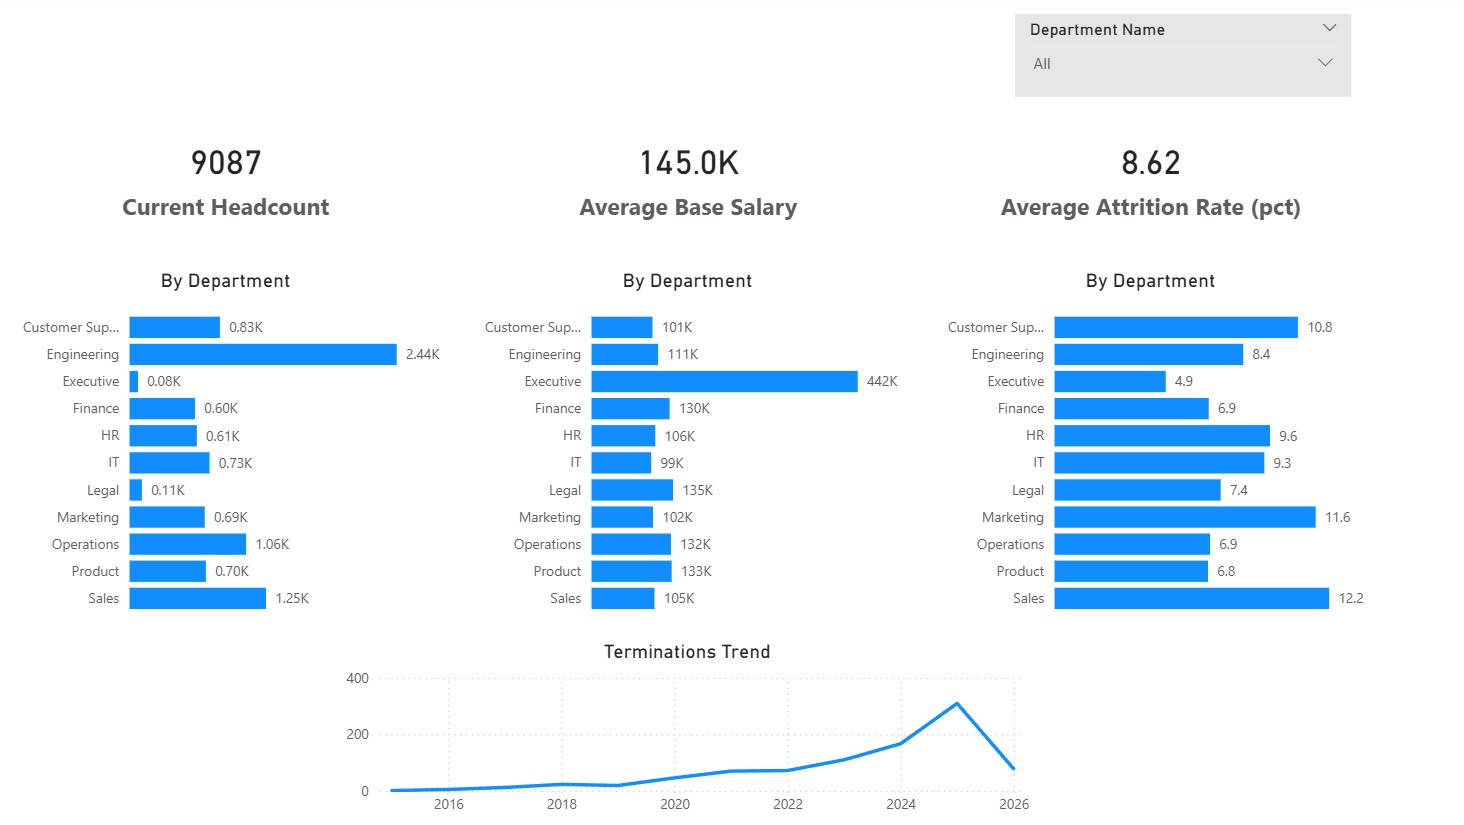

The page's visual inventory and layout, read from the dashboard file:
{"tool":"powerbi","page":{"name":"Executive","canvas":[1280,720],"ordinal":0},"visuals":[{"type":"card","fields":{"Values":["Sum(people_analytics vw_current_headcount_by_department.current_headcount)"]},"box":[59,81,281,151],"z":0},{"type":"card","fields":{"Values":["Avg(people_analytics vw_attrition_rate_by_department.attrition_rate_pct)"]},"box":[863,81,280,151],"z":1000},{"type":"card","fields":{"Values":["Avg(people_analytics vw_current_salary_by_department.avg_current_base_salary)"]},"box":[461,81,280,151],"z":2000},{"type":"barChart","title":"By Department","fields":{"Category":["people_analytics vw_current_headcount_by_department.departmentname"],"Y":["Sum(people_analytics vw_current_headcount_by_department.current_headcount)"]},"box":[7,237,385,310],"z":3000},{"type":"barChart","title":"By Department","fields":{"Category":["people_analytics vw_attrition_rate_by_department.departmentname"],"Y":["Sum(people_analytics vw_attrition_rate_by_department.attrition_rate_pct)"]},"box":[810,237,385,310],"z":4000},{"type":"lineChart","title":"Terminations Trend","fields":{"Y":["Sum(people_analytics vw_attrition_summary.terminations)"],"Category":["people_analytics vw_attrition_summary.year"]},"box":[299,559,603,161],"z":5000},{"type":"barChart","title":"By Department","fields":{"Category":["people_analytics vw_current_salary_by_department.departmentname"],"Y":["Sum(people_analytics vw_current_salary_by_department.avg_current_base_salary)"]},"box":[408,237,385,310],"z":6000},{"type":"slicer","fields":{"Values":["people_analytics vw_current_headcount_by_department.departmentname"]},"box":[882,9,292,72],"z":6001}]}

Visuals, with their boxes in screenshot pixels (x1, y1, x2, y2), scaled from the page's 1280x720 canvas onto the 1464x825 screenshot:
card - Sum(people_analytics vw_current_headcount_by_department.current_headcount): Rect(67, 93, 389, 266)
card - Avg(people_analytics vw_attrition_rate_by_department.attrition_rate_pct): Rect(987, 93, 1307, 266)
card - Avg(people_analytics vw_current_salary_by_department.avg_current_base_salary): Rect(527, 93, 848, 266)
"By Department" barChart: Rect(8, 272, 448, 627)
"By Department" barChart: Rect(926, 272, 1367, 627)
"Terminations Trend" lineChart: Rect(342, 641, 1032, 824)
"By Department" barChart: Rect(467, 272, 907, 627)
slicer - people_analytics vw_current_headcount_by_department.departmentname: Rect(1009, 10, 1343, 93)
